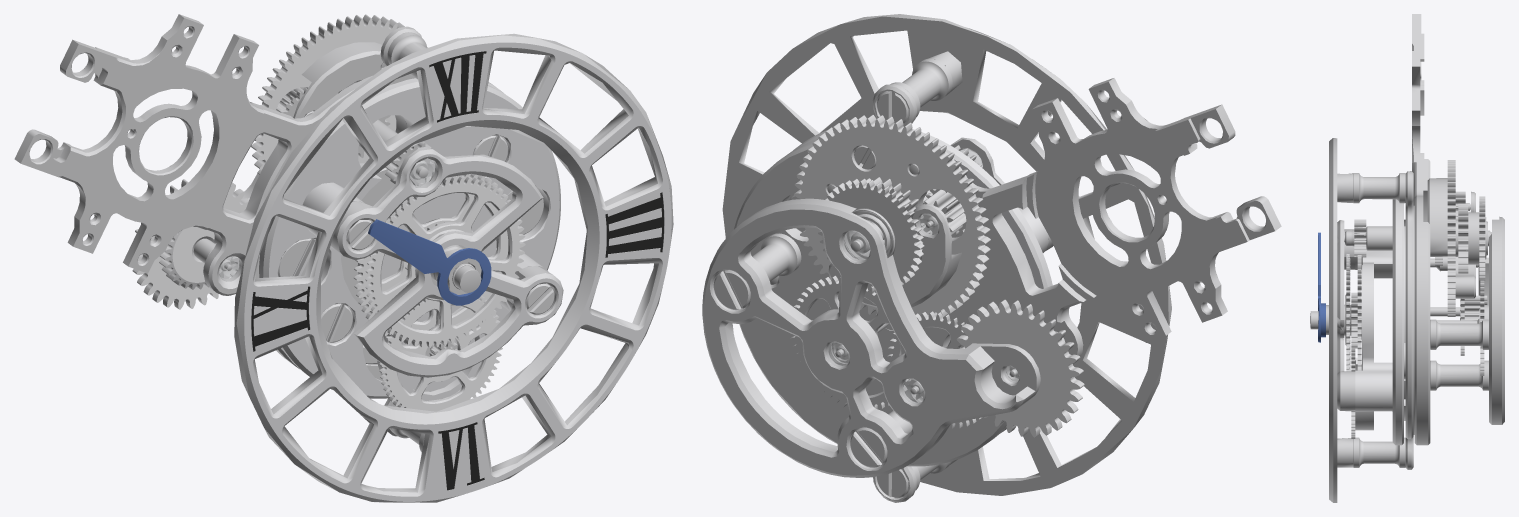
Rendered from case_body_white_gold.glb.
The picture shows the model from 3 angles, left to right: view 1: azimuth 30°, elevation 25°; view 2: azimuth 150°, elevation 25°; view 3: azimuth 270°, elevation 25°; orthographic projection. The views are drawn at different scales.
Parts seen in each view (by area): view 1: Importée1.067, 08041.EVEREST.F.stp.031, 08041.EVEREST.F.stp.025, 08041.EVEREST.F.stp.021, Importée1.068, 08041.EVEREST.F.stp.064, 08041.EVEREST.F.stp.075, Enlèv. mat.-Extru.2, 08041.EVEREST.F.stp.040, 08041.EVEREST.F.stp.024, 08041.EVEREST.F.stp.055, 08041.EVEREST.F.stp.061 (+4 smaller); view 2: 08041.EVEREST.F.stp.031, 08041.EVEREST.F.stp.052, Importée1.067, 08041.EVEREST.F.stp.064, 08041.EVEREST.F.stp.061, 08041.EVEREST.F.stp.048, 08041.EVEREST.F.stp.047, 08041.EVEREST.F.stp.025, 08041.EVEREST.F.stp.051, 08041.EVEREST.F.stp.015, 08041.EVEREST.F.stp.030, 08041.EVEREST.F.stp.065 (+8 smaller); view 3: 08041.EVEREST.F.stp.025, 08041.EVEREST.F.stp.031, Importée1.067, 08041.EVEREST.F.stp.052, 08041.EVEREST.F.stp.029, 08041.EVEREST.F.stp.021, 08041.EVEREST.F.stp.040, 08041.EVEREST.F.stp.064, 08041.EVEREST.F.stp.065, 08041.EVEREST.F.stp.030, 08041.EVEREST.F.stp.058, 08041.EVEREST.F.stp.015 (+13 smaller).
Boxes of the visible parts, <box> form: Importée1.067: <box>234,33,673,502</box>; 08041.EVEREST.F.stp.031: <box>14,14,505,368</box>; 08041.EVEREST.F.stp.025: <box>259,78,560,401</box>; 08041.EVEREST.F.stp.021: <box>330,146,563,377</box>; Importée1.068: <box>365,176,525,347</box>; 08041.EVEREST.F.stp.064: <box>251,14,427,174</box>; 08041.EVEREST.F.stp.075: <box>379,296,502,411</box>; Enlèv. mat.-Extru.2: <box>368,219,491,305</box>; 08041.EVEREST.F.stp.040: <box>293,42,385,118</box>; 08041.EVEREST.F.stp.024: <box>354,171,518,344</box>; 08041.EVEREST.F.stp.055: <box>159,226,234,289</box>; 08041.EVEREST.F.stp.061: <box>132,179,248,309</box>; 08041.EVEREST.F.stp.031: <box>734,78,1281,466</box>; 08041.EVEREST.F.stp.052: <box>702,198,1040,477</box>; Importée1.067: <box>722,14,1171,495</box>; 08041.EVEREST.F.stp.064: <box>794,115,990,317</box>; 08041.EVEREST.F.stp.061: <box>956,299,1084,437</box>; 08041.EVEREST.F.stp.048: <box>818,178,924,290</box>; 08041.EVEREST.F.stp.047: <box>828,204,961,307</box>; 08041.EVEREST.F.stp.025: <box>794,129,1056,432</box>; 08041.EVEREST.F.stp.051: <box>789,275,910,409</box>; 08041.EVEREST.F.stp.015: <box>890,58,952,117</box>; 08041.EVEREST.F.stp.030: <box>752,233,801,281</box>; 08041.EVEREST.F.stp.065: <box>844,177,930,259</box>; 08041.EVEREST.F.stp.025: <box>1355,199,1405,445</box>; 08041.EVEREST.F.stp.031: <box>1412,14,1430,445</box>; Importée1.067: <box>1329,138,1353,502</box>; 08041.EVEREST.F.stp.052: <box>1478,216,1504,424</box>; 08041.EVEREST.F.stp.029: <box>1405,171,1413,469</box>; 08041.EVEREST.F.stp.021: <box>1337,220,1355,411</box>; 08041.EVEREST.F.stp.040: <box>1427,178,1447,256</box>; 08041.EVEREST.F.stp.064: <box>1447,160,1458,316</box>; 08041.EVEREST.F.stp.065: <box>1458,203,1487,273</box>; 08041.EVEREST.F.stp.030: <box>1430,319,1488,349</box>; 08041.EVEREST.F.stp.058: <box>1430,360,1488,390</box>; 08041.EVEREST.F.stp.015: <box>1353,173,1405,203</box>.
Bounding box in the file's own units: 0.0249 × 0.0196 × 0.00968.
